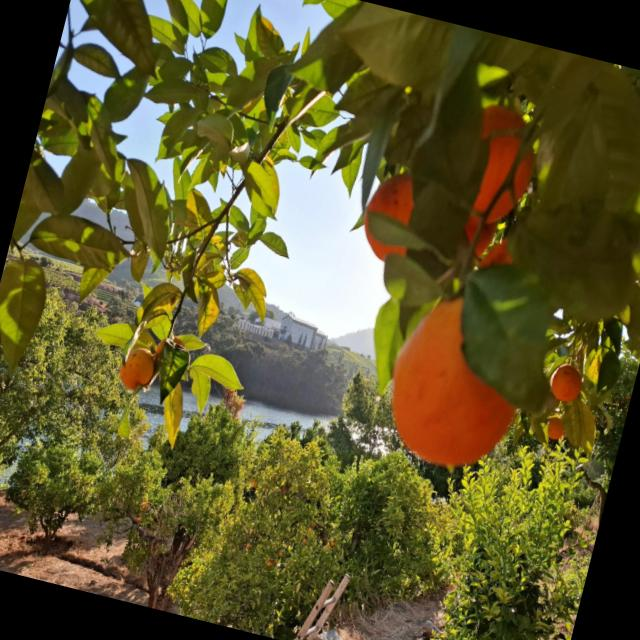laranja: (354, 293, 535, 485), (359, 170, 416, 262), (484, 150, 542, 230), (472, 129, 521, 217), (113, 343, 162, 394), (474, 99, 523, 137)
